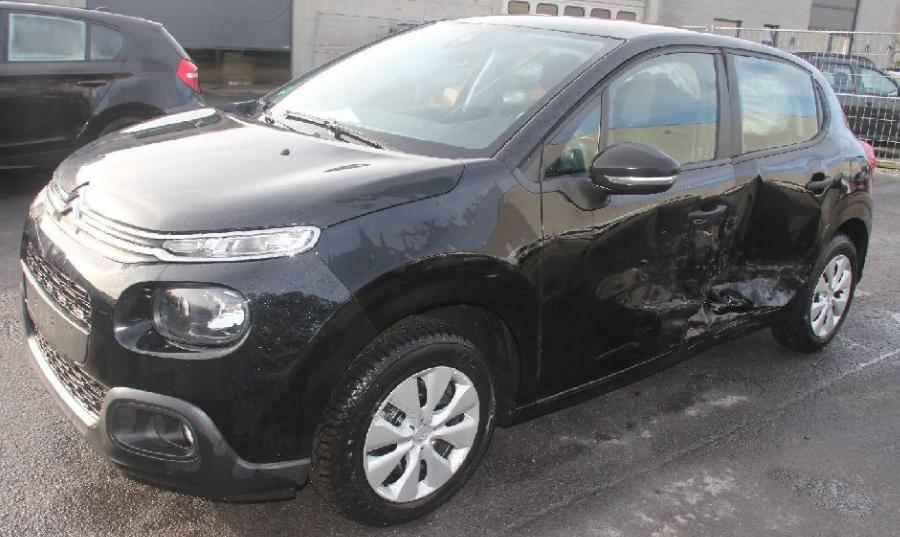Back-bumper: (823, 189, 873, 249)
Back-door: (721, 46, 845, 326)
Back-wheel: (769, 232, 857, 352)
Back-window: (734, 55, 824, 153)
Fender: (313, 157, 545, 407)
Front-bumper: (19, 188, 378, 503)
Front-door: (535, 44, 735, 402)
Front-wheel: (307, 314, 498, 527)
Front-window: (542, 52, 719, 180)
Grille: (20, 237, 108, 418)
Headlight: (150, 283, 249, 346), (161, 231, 313, 258)
Hood: (55, 105, 465, 235)
Mirror: (578, 142, 679, 199)
Quarter-panel: (826, 125, 870, 205)
Rocker-panel: (503, 297, 806, 427)
Roof: (437, 15, 764, 44)
Tail-light: (860, 140, 877, 179)
Windshield: (246, 21, 625, 159)
